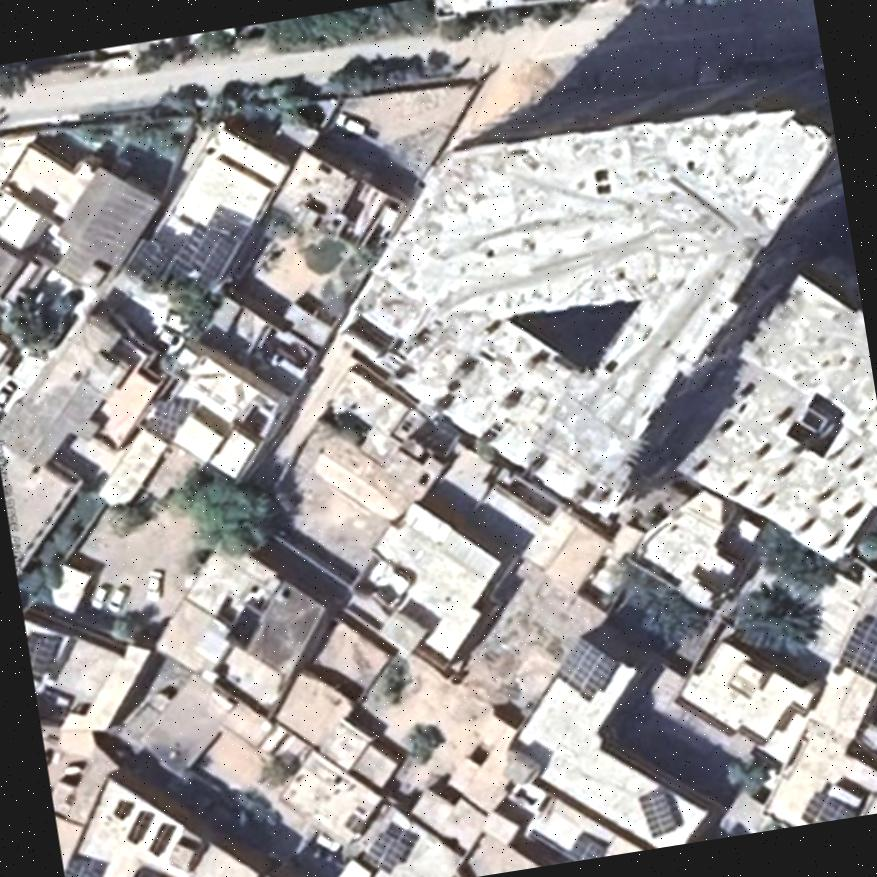Solarpanel: (173, 223, 231, 281), (557, 638, 616, 694), (840, 606, 877, 683), (124, 240, 168, 286), (639, 786, 678, 837), (365, 828, 405, 870), (804, 790, 856, 821), (29, 630, 59, 676), (66, 867, 100, 877)
